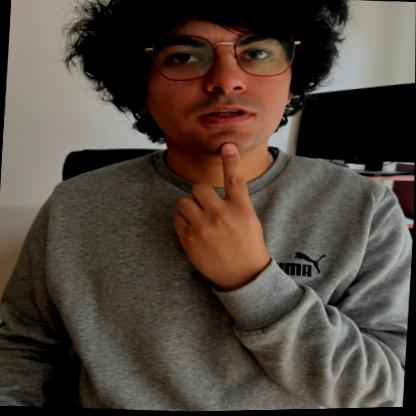T: (167, 136, 278, 289)
